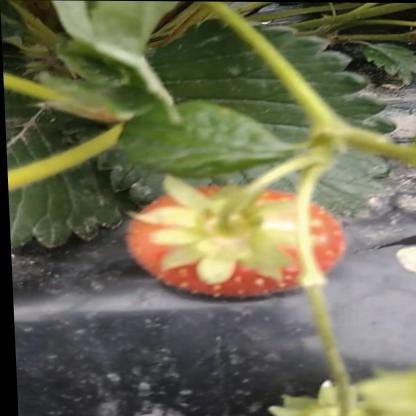ripe: (121, 182, 346, 303)
